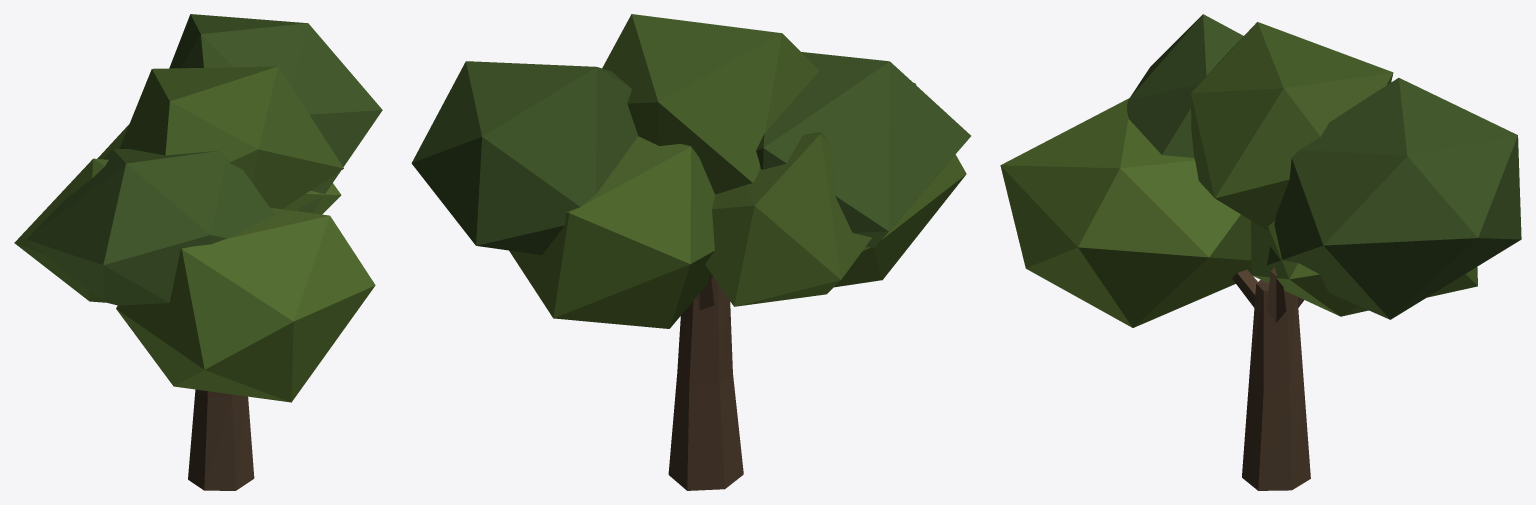
3 renders of one model, left to right at view 1: azimuth 30°, elevation 25°; view 2: azimuth 150°, elevation 25°; view 3: azimuth 270°, elevation 25°, orthographic. The views are drawn at different scales.
Parts seen in each view (by area): view 1: E1_eg_a; view 2: E1_eg_a; view 3: E1_eg_a.
Part boxes in pixels (box(x1,y1,x2,y2)): E1_eg_a: box(14, 14, 382, 490); E1_eg_a: box(411, 14, 970, 490); E1_eg_a: box(1000, 14, 1521, 490).
Bounding box in the file's own units: 5.73 × 6.04 × 6.69.
